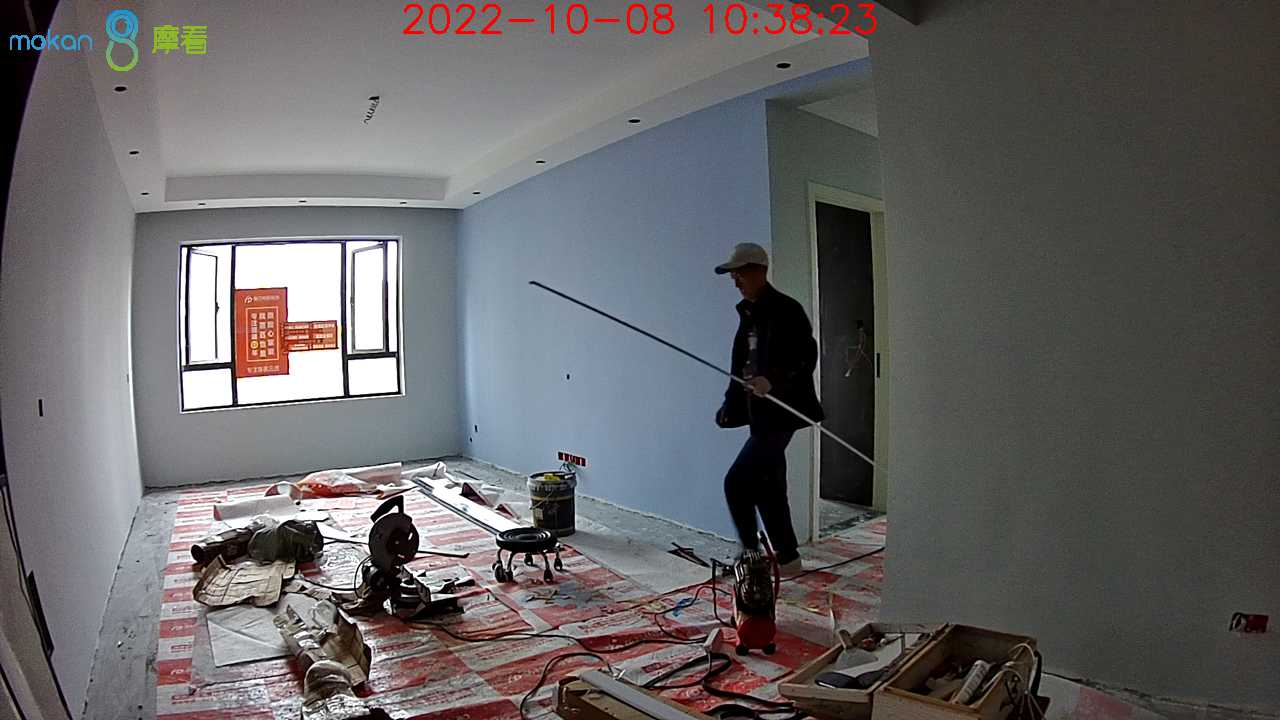people: (716, 241, 824, 571)
window: (175, 235, 409, 411)
